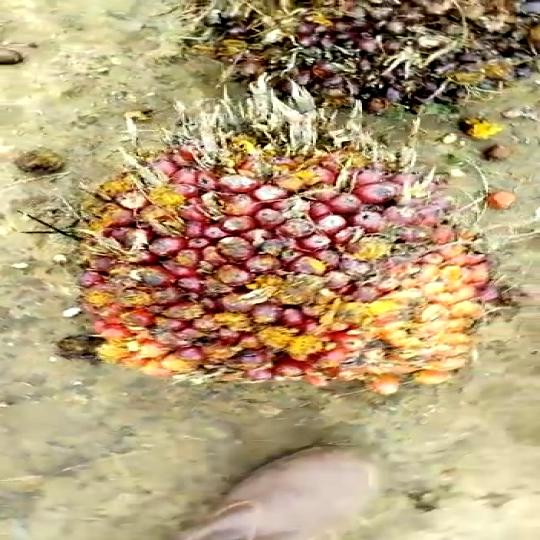masak: (53, 108, 528, 406)
